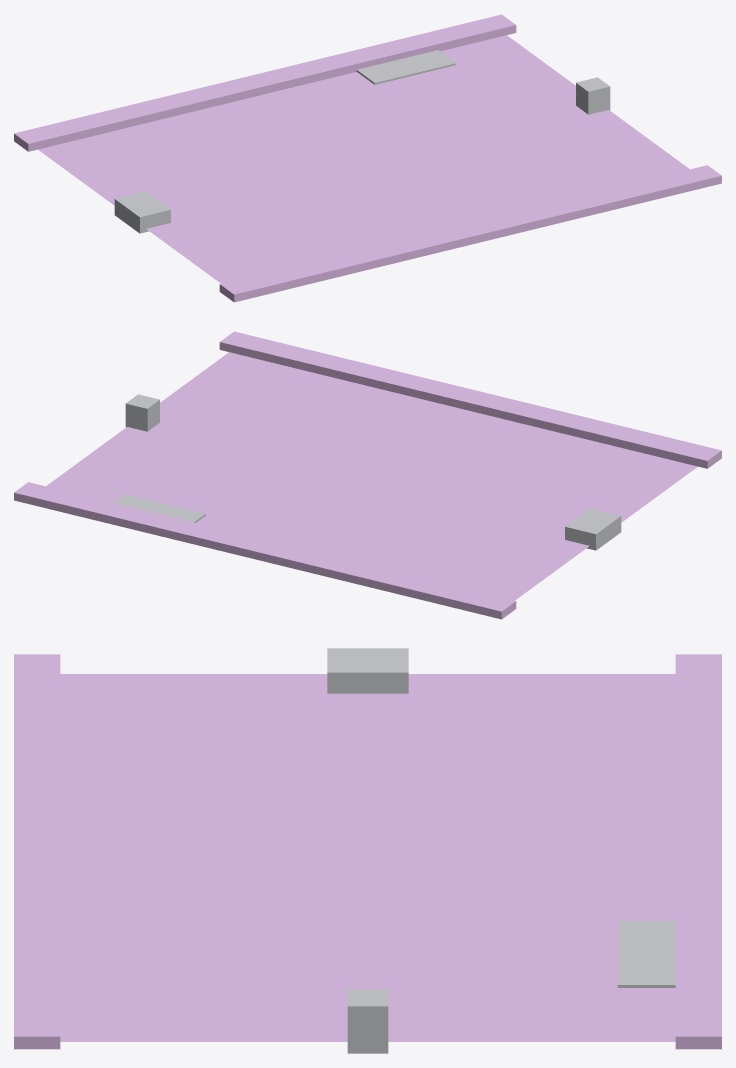
File: detention-basin.glb
The picture shows the model from 3 angles, top to bottom: view 1: azimuth 30°, elevation 25°; view 2: azimuth 150°, elevation 25°; view 3: azimuth 270°, elevation 25°; orthographic projection. The views are drawn at different scales.
Parts seen in each view (by area): view 1: basin, embankment-s, embankment-n, ramp, inlet, outlet-tower; view 2: basin, embankment-n, embankment-s, inlet, outlet-tower, ramp; view 3: basin, embankment-n, embankment-s, ramp, inlet, outlet-tower.
Boxes of the visible parts, <box> form: basin: <box>38,35,689,283</box>; embankment-s: <box>219,165,721,302</box>; embankment-n: <box>14,14,516,151</box>; ramp: <box>356,50,455,84</box>; inlet: <box>114,191,170,233</box>; outlet-tower: <box>576,77,610,114</box>; basin: <box>46,352,697,600</box>; embankment-n: <box>14,482,516,619</box>; embankment-s: <box>219,331,721,468</box>; inlet: <box>565,508,621,550</box>; outlet-tower: <box>125,394,159,431</box>; ramp: <box>113,494,205,522</box>; basin: <box>60,674,675,1041</box>; embankment-n: <box>675,654,721,1049</box>; embankment-s: <box>14,654,60,1049</box>; ramp: <box>617,921,675,987</box>; inlet: <box>327,648,408,693</box>; outlet-tower: <box>347,989,388,1053</box>.
Size of the model in its own units: 156 by 11 by 122.
